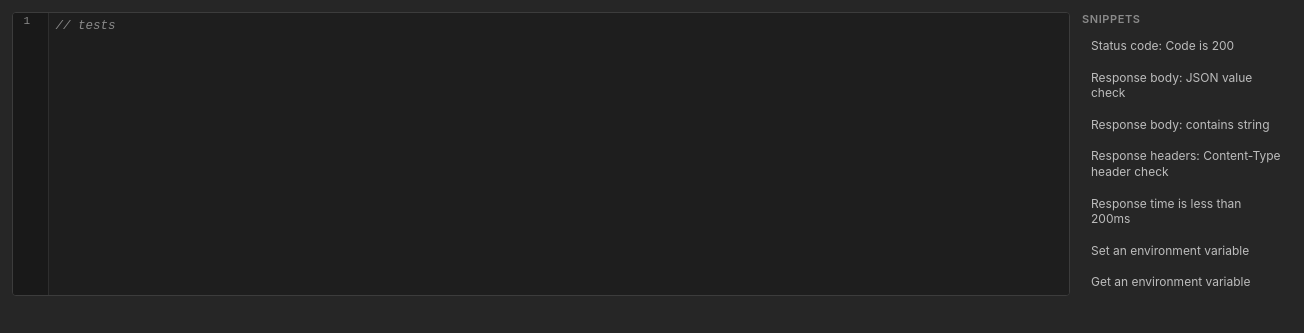
it: ScriptEditor › inserts a snippet at the cursor
Click the button "Status code: Code is 200".
click(1187, 46)  # box [1082, 32, 1292, 60]
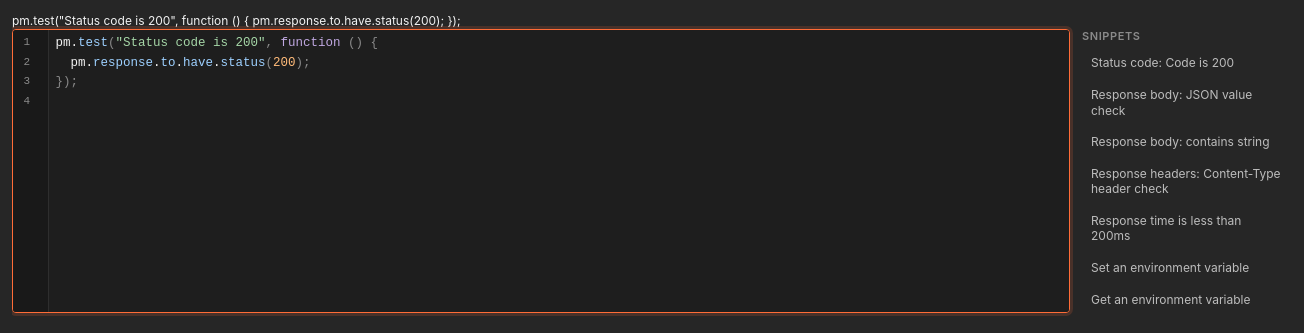
Result: the text with test id "value" shows "pm.response.to.have.status(200)" at [12, 13, 461, 28]
